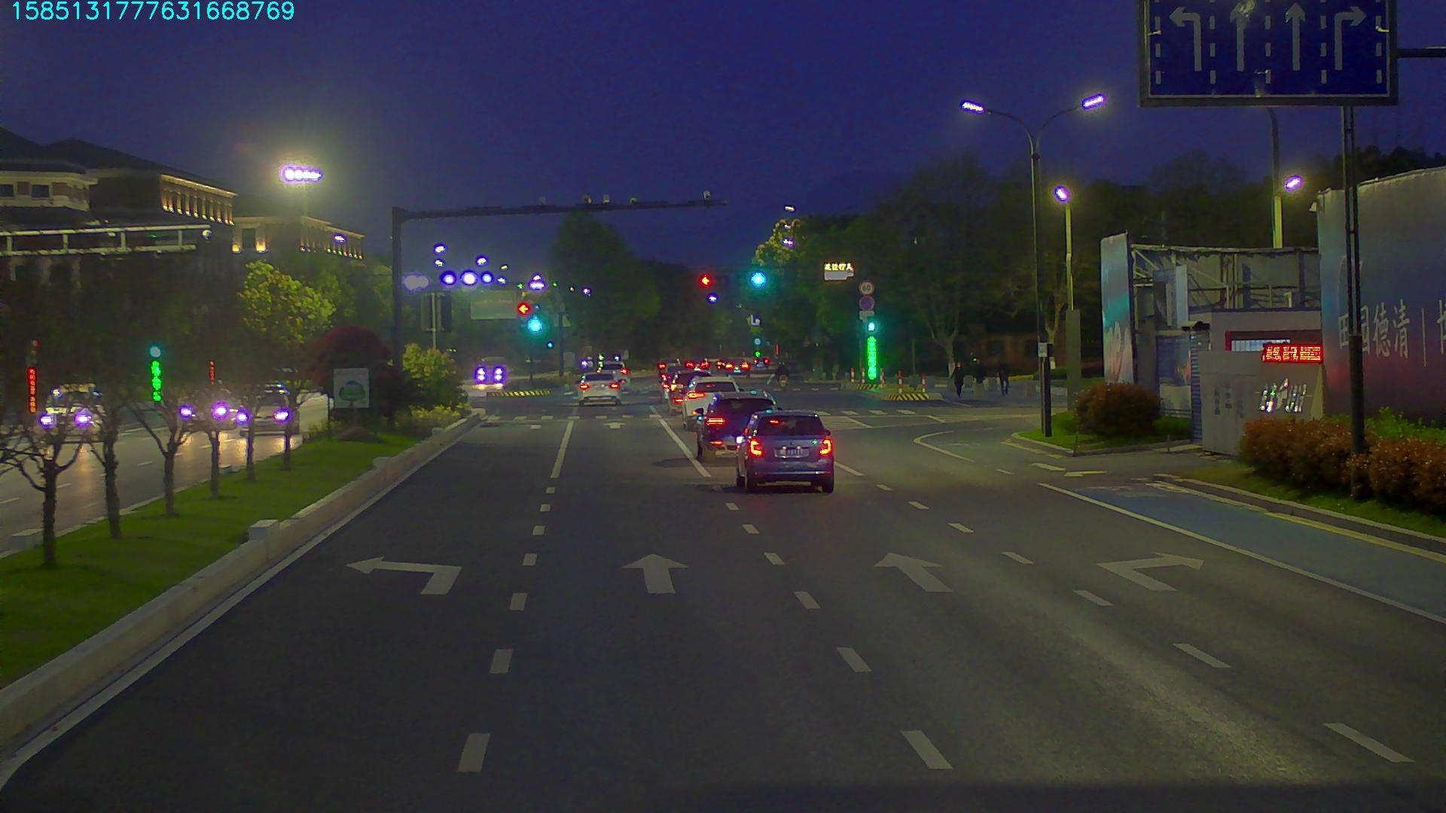green: (745, 268, 771, 288)
red: (693, 270, 717, 288)
